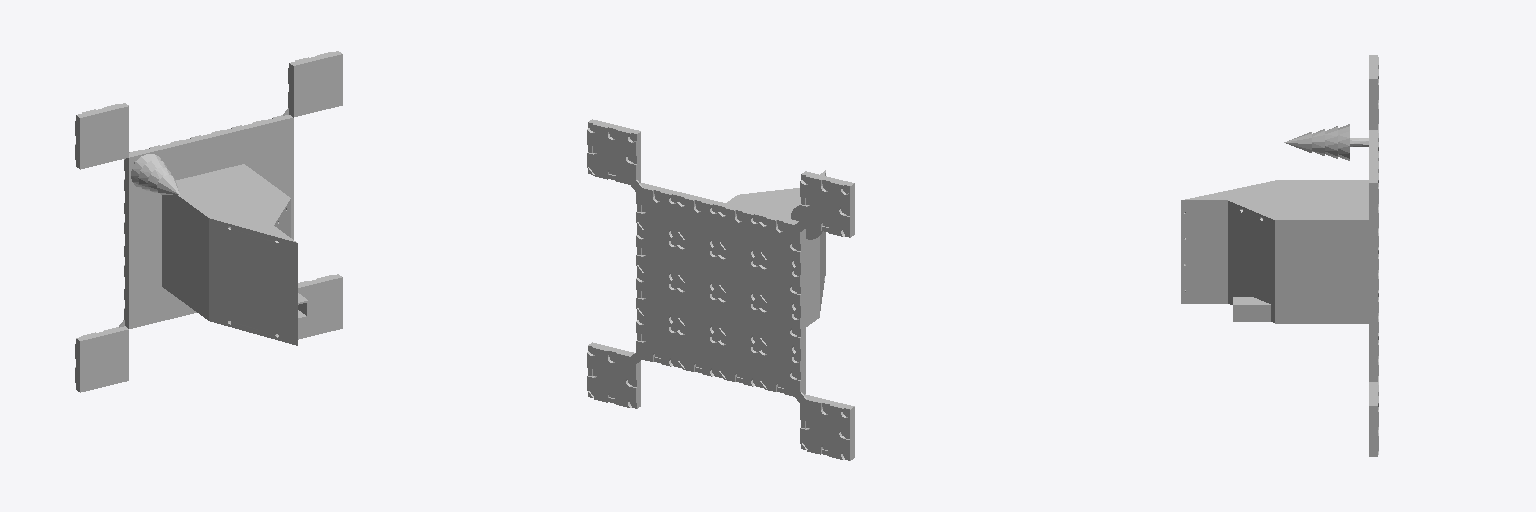
File: House_Test.obj
3 renders of one model, left to right at view 1: azimuth 30°, elevation 25°; view 2: azimuth 150°, elevation 25°; view 3: azimuth 270°, elevation 25°, orthographic.
Parts seen in each view (by area): view 1: Solid1; view 2: Solid1; view 3: Solid1.
Part boxes in pixels (bbox=[...]): Solid1: bbox=[75, 51, 342, 392]; Solid1: bbox=[587, 119, 854, 460]; Solid1: bbox=[1181, 55, 1378, 456].
Bounding box in the file's own units: 0.32 × 0.32 × 0.21.